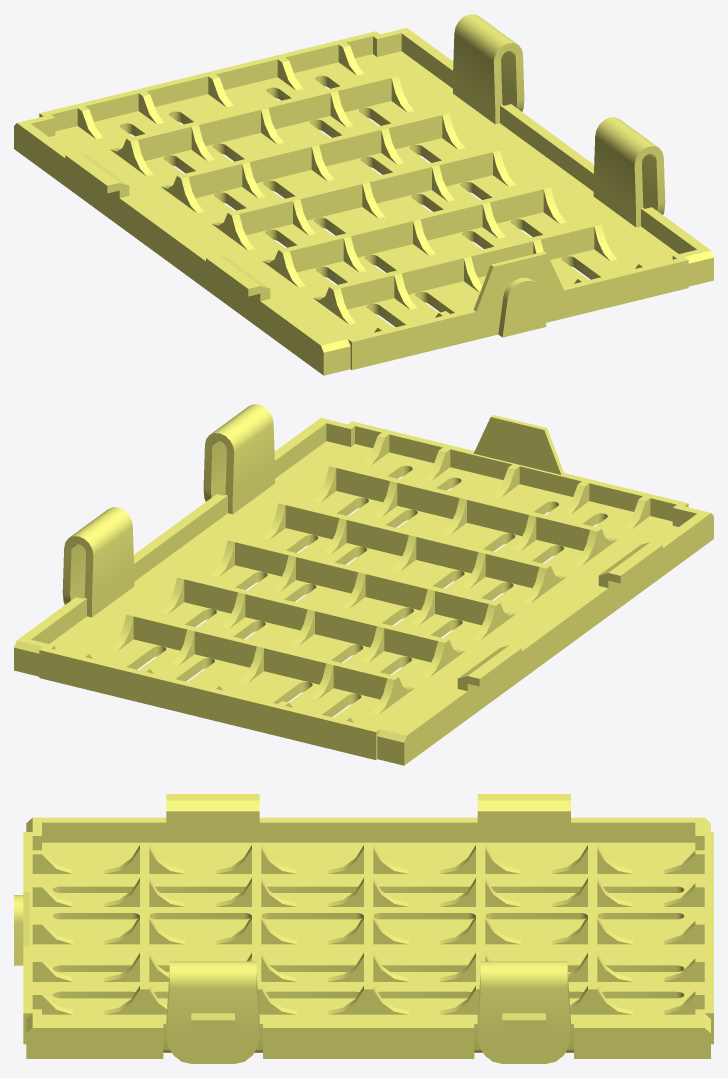
3 views of the same model, one above another, from view 1: azimuth 30°, elevation 25°; view 2: azimuth 150°, elevation 25°; view 3: azimuth 270°, elevation 25° (orthographic). The views are drawn at different scales.
Visible parts, largest first — view 1: 99143.dat; view 2: 99143.dat; view 3: 99143.dat.
Part boxes in pixels (<box>): 99143.dat: <box>14,14,713,375</box>; 99143.dat: <box>14,404,713,765</box>; 99143.dat: <box>14,794,713,1063</box>.
Size of the model in its own units: 0.0688 by 0.0136 by 0.09.
